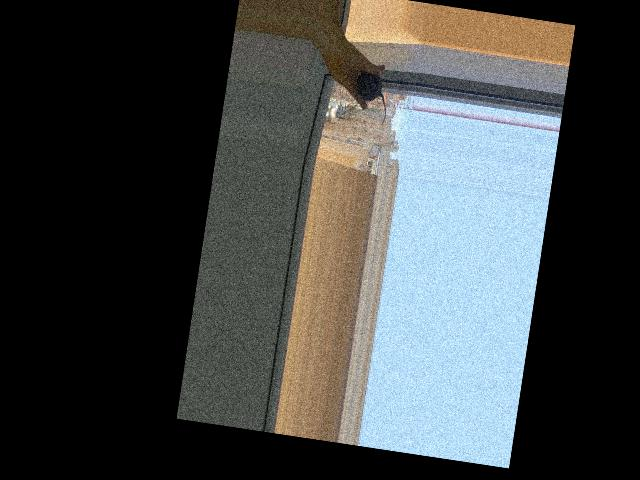beet: (350, 71, 391, 126)
